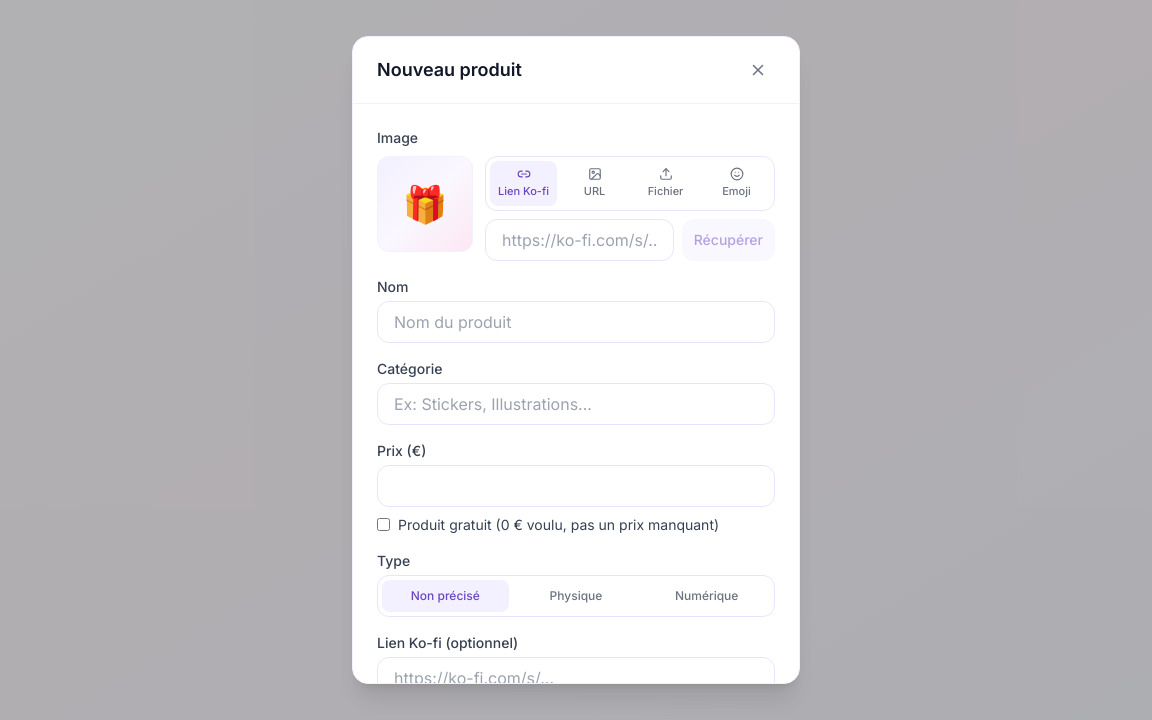
Test case: ProductForm : image depuis un lien Ko-fi (création) › lien invalide : refusé côté navigateur, aucun appel réseau
Type "https://ko-fi.com.evil.fr/s/58d678ea42" into the field named "Lien du produit Ko-fi" at {"x": 579, "y": 240}, box [485, 218, 674, 260]
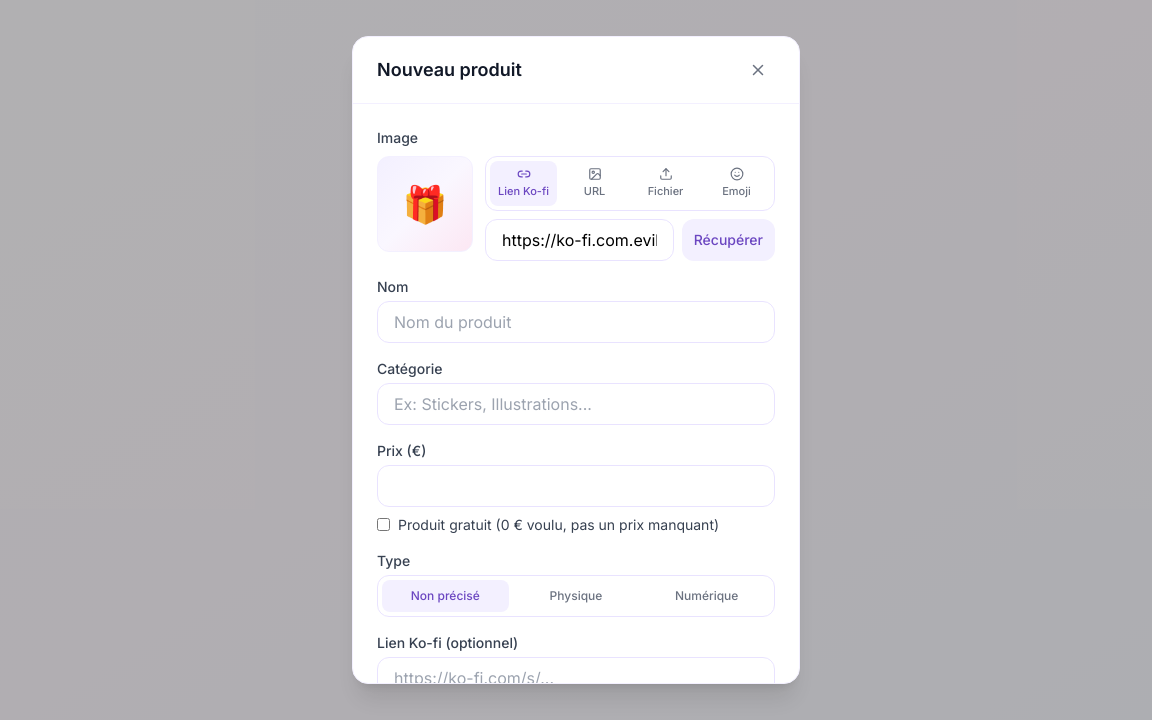
Click the button "Récupérer" at {"x": 728, "y": 240}, box [682, 218, 775, 260]
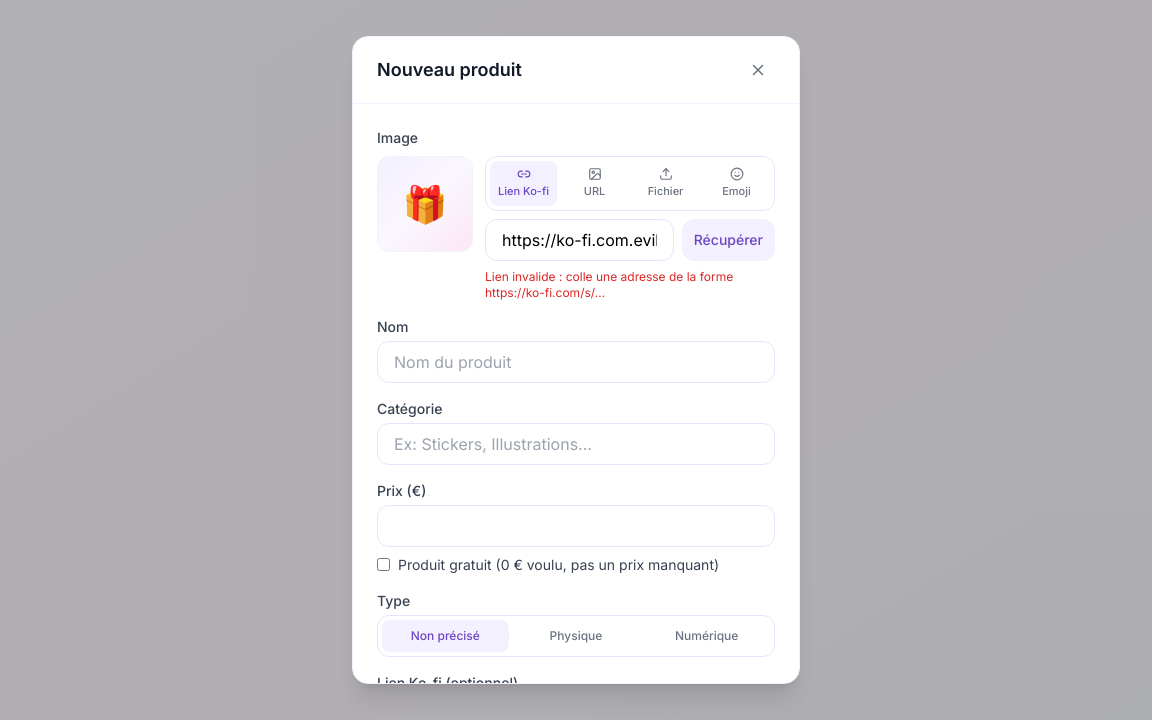
Expected: the message shows "Lien invalide", [485, 268, 733, 300]
